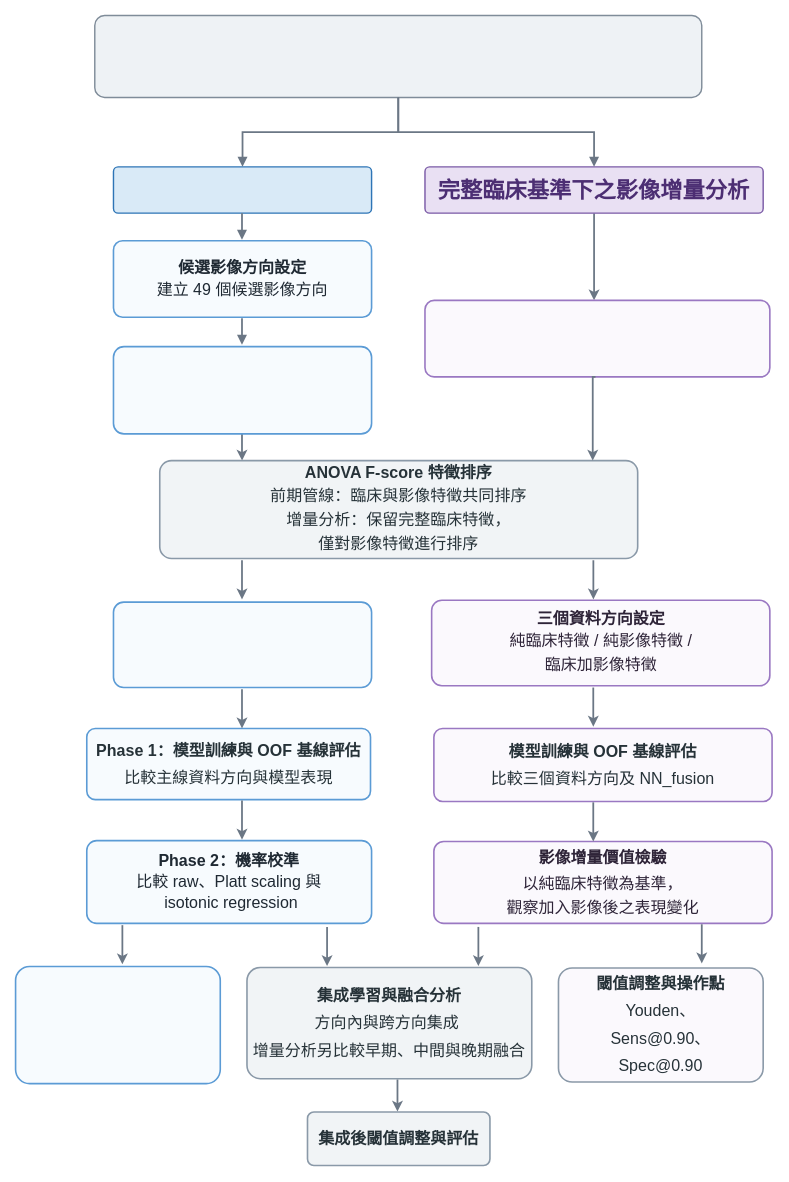
Image size: 789x1182. Some labels were removed from this diagram. Each missing label, with the box of its shape:
Phase 3：閾值調整 Youden、 Sens@0.90、 Spec@0.90: (14, 965, 221, 1084)
主線設定篩選 選定主要方向、 Top-N 與 模型子集: (112, 601, 372, 688)
共用研究基礎 三項二元分類任務｜折內前處理｜巢狀分層交叉驗證與 OOF 預測: (94, 14, 702, 98)
前期管線: (112, 166, 372, 213)
多模型基線比較 比較候選方向、模型 與 eTIV 校正設定: (112, 345, 372, 434)
完整臨床基準與影像範圍設定 以完整臨床特徵作為基準， 並建立影像特徵池: (424, 299, 770, 377)
